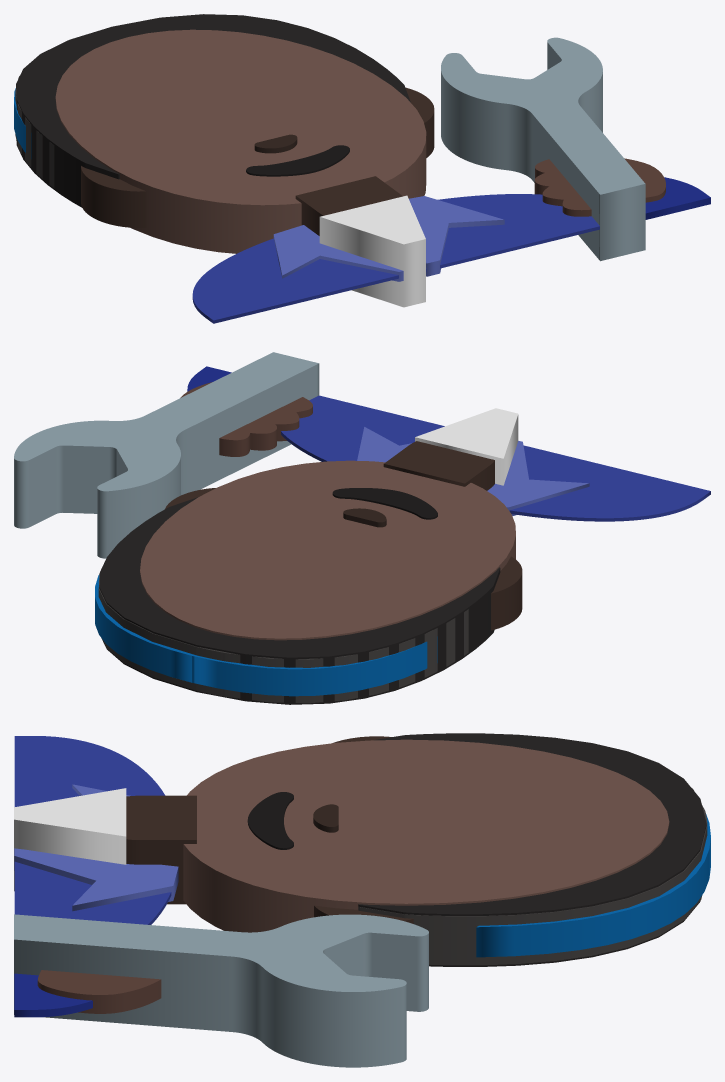
The model's file is emoji_u1f468_1f3ff_200d_1f527.glb.
3 views of the same model, one above another, from view 1: azimuth 30°, elevation 25°; view 2: azimuth 150°, elevation 25°; view 3: azimuth 270°, elevation 25° (orthographic). The views are drawn at different scales.
Parts seen in each view (by area): view 1: emoji_u1f468_1f3ff_200d_1f527; view 2: emoji_u1f468_1f3ff_200d_1f527; view 3: emoji_u1f468_1f3ff_200d_1f527.
Boxes of the visible parts, x1,y1,x2,y2 form: emoji_u1f468_1f3ff_200d_1f527: (14,14,710,323); emoji_u1f468_1f3ff_200d_1f527: (14,352,710,704); emoji_u1f468_1f3ff_200d_1f527: (14,733,710,1067).
Size of the model in its own units: 0.0332 by 0.004 by 0.0335.
